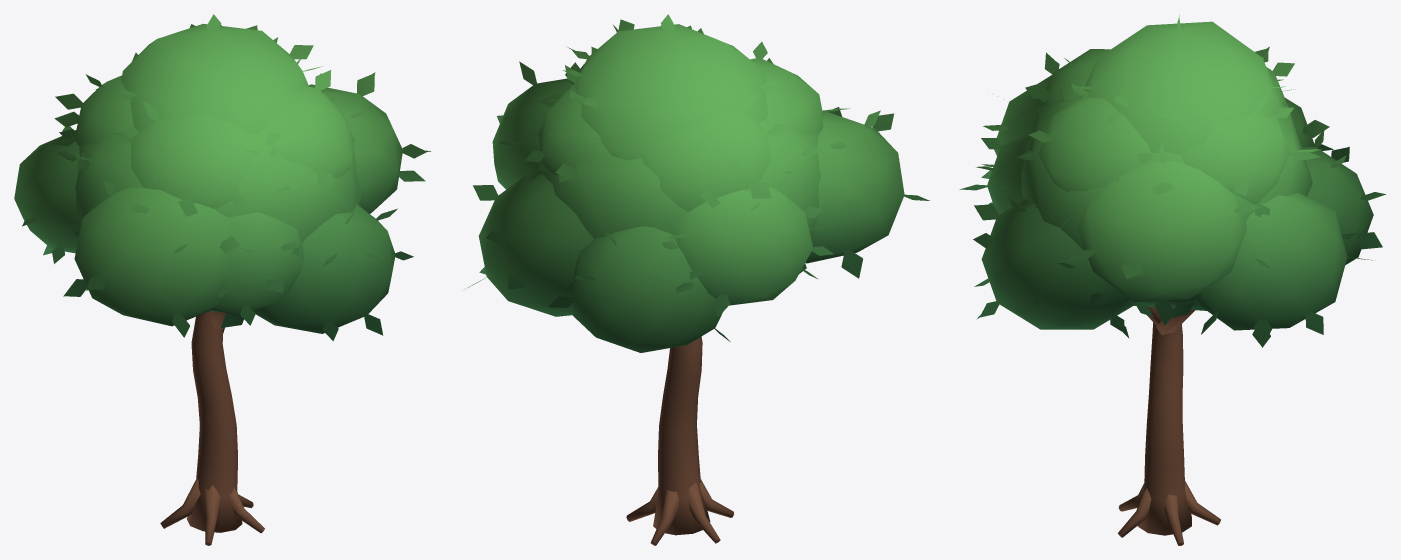
Rendered from tree_round.glb.
3 renders of one model, left to right at view 1: azimuth 30°, elevation 25°; view 2: azimuth 150°, elevation 25°; view 3: azimuth 270°, elevation 25°, orthographic. The views are drawn at different scales.
Visible parts, largest first — view 1: tree_round:mesh; view 2: tree_round:mesh; view 3: tree_round:mesh.
Part boxes in pixels (x1,y1,x2,y2): tree_round:mesh: (14,14,430,545); tree_round:mesh: (464,14,929,545); tree_round:mesh: (959,14,1385,545).
Bounding box in the file's own units: 3.16 × 3.95 × 2.98.
